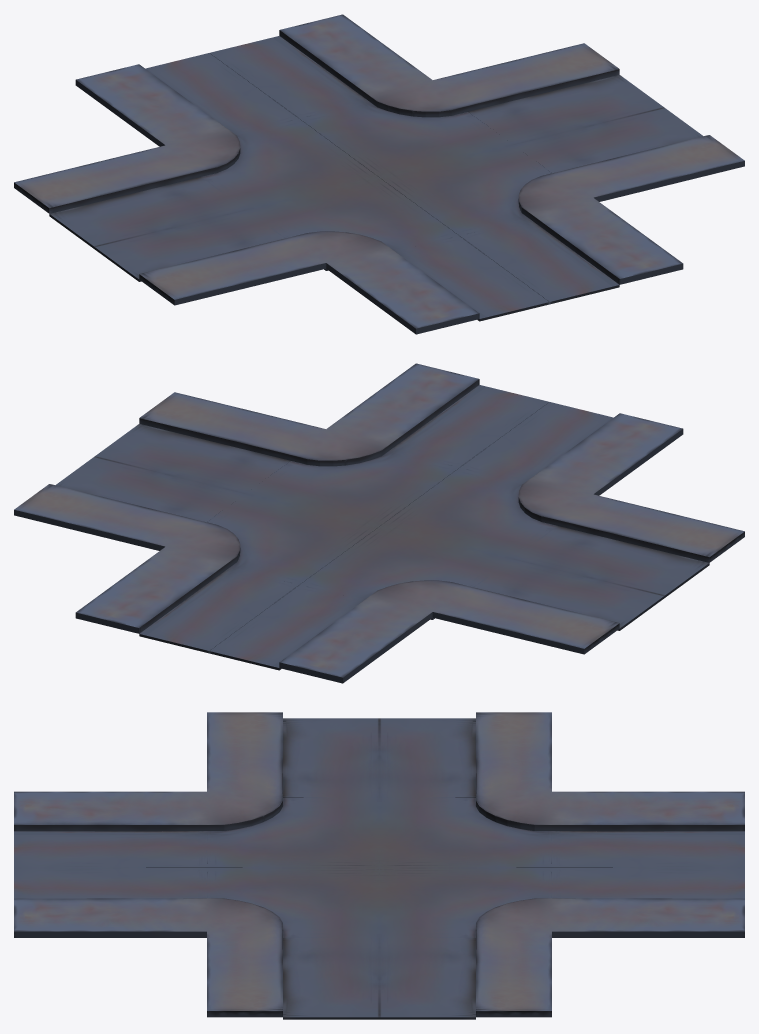
Rendered from Cross.fbx.
3 renders of one model, top to bottom at view 1: azimuth 30°, elevation 25°; view 2: azimuth 150°, elevation 25°; view 3: azimuth 270°, elevation 25°, orthographic. The views are drawn at different scales.
Visible parts, largest first — view 1: Box003; view 2: Box003; view 3: Box003.
Part boxes in pixels (x1,y1,x2,y2): Box003: (14,14,744,334); Box003: (14,363,744,683); Box003: (14,712,744,1019).
Bounding box in the file's own units: 5153 × 73.05 × 5326.
1 material, 1 textured.
